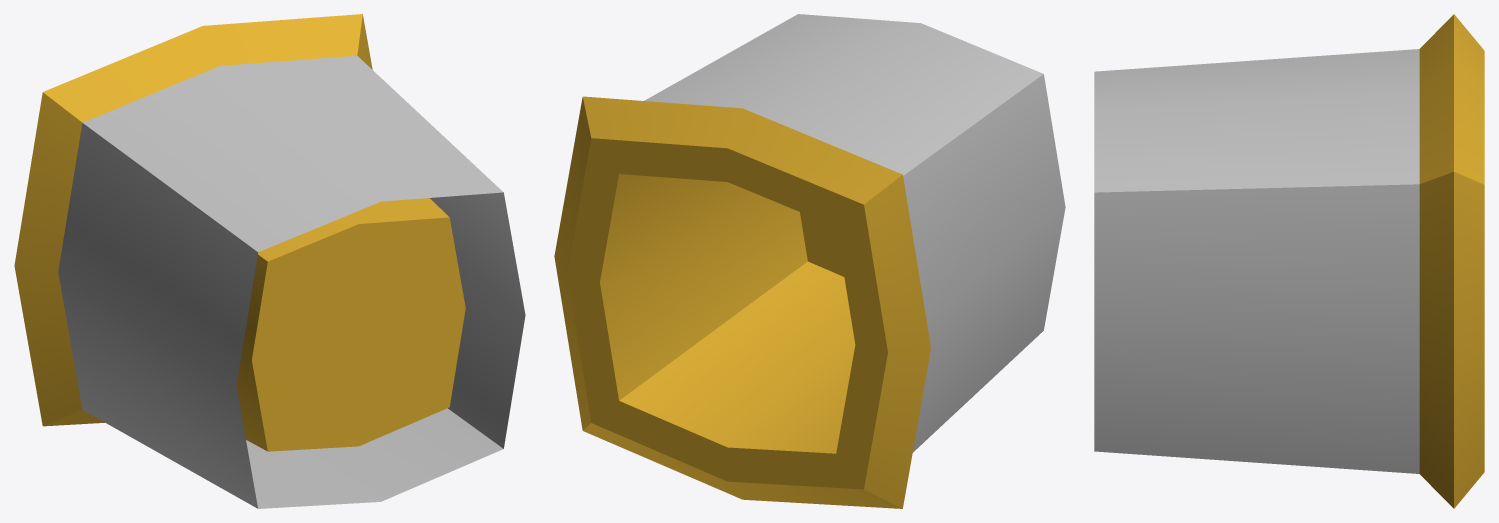
File: Cup 01.FBX
3 renders of one model, left to right at view 1: azimuth 30°, elevation 25°; view 2: azimuth 150°, elevation 25°; view 3: azimuth 270°, elevation 25°, orthographic.
Visible parts, largest first — view 1: Cup 01; view 2: Cup 01; view 3: Cup 01.
Part boxes in pixels (bbox=[...]): Cup 01: bbox=[14, 14, 525, 508]; Cup 01: bbox=[554, 14, 1065, 508]; Cup 01: bbox=[1094, 14, 1484, 508].
Size of the model in its own units: 22.54 by 22.37 by 20.04.
